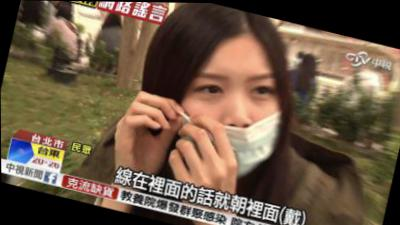WRONG: (167, 40, 298, 192)
